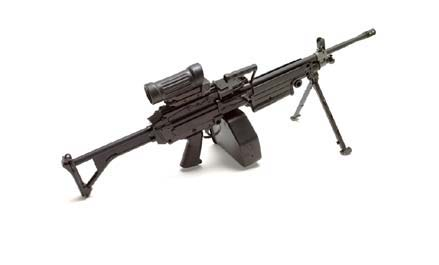rifle: (52, 23, 380, 210)
